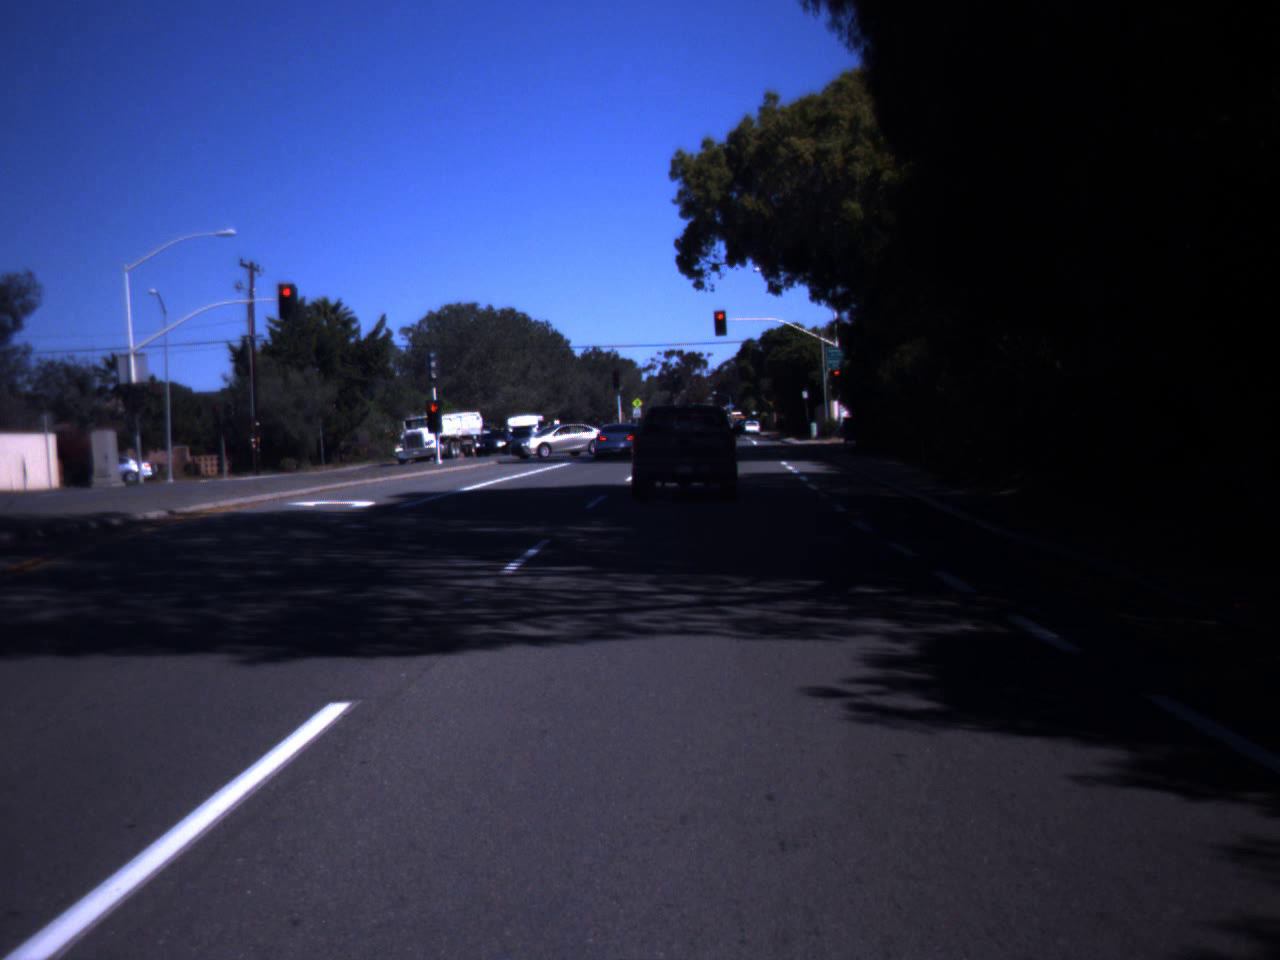stop: (278, 286, 296, 313), (714, 312, 726, 330)
